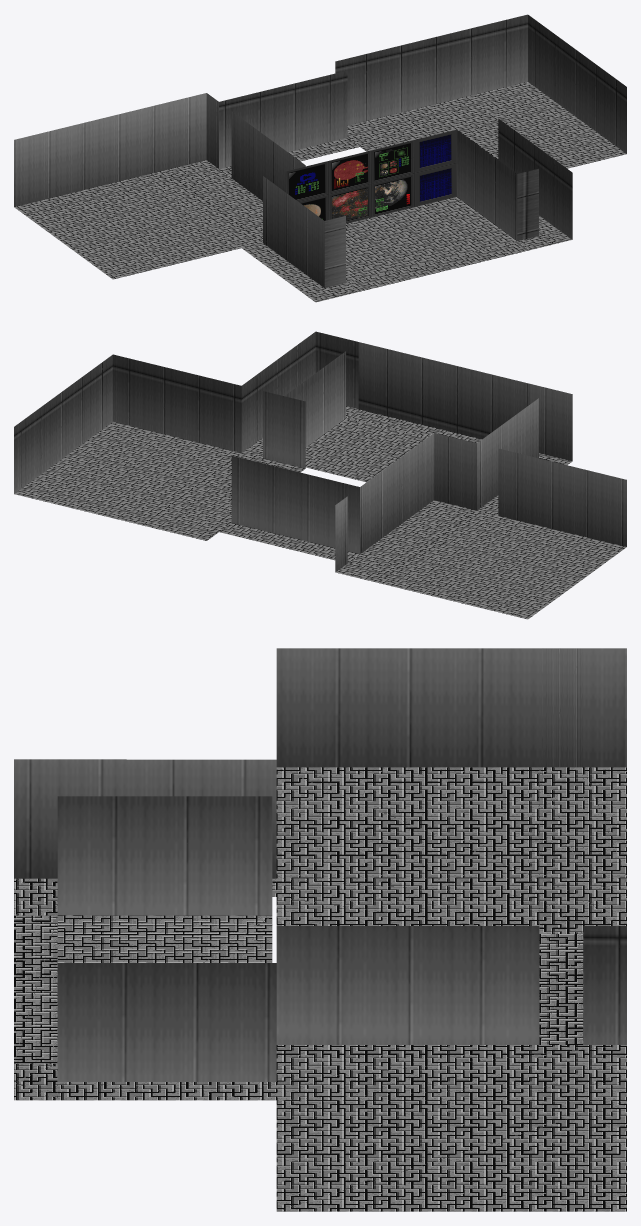
Rendered from testmap.glb.
3 renders of one model, top to bottom at view 1: azimuth 30°, elevation 25°; view 2: azimuth 150°, elevation 25°; view 3: azimuth 270°, elevation 25°, orthographic. The views are drawn at different scales.
Parts seen in each view (by area): view 1: Plane; view 2: Plane; view 3: Plane.
Part boxes in pixels (left/top/right/bottom): Plane: left=14, top=14, right=626, bottom=302; Plane: left=14, top=331, right=626, bottom=619; Plane: left=14, top=648, right=626, bottom=1211.
Bounding box in the file's own units: 24 × 3 × 14.
Materials: 4 (4 with a texture image).
